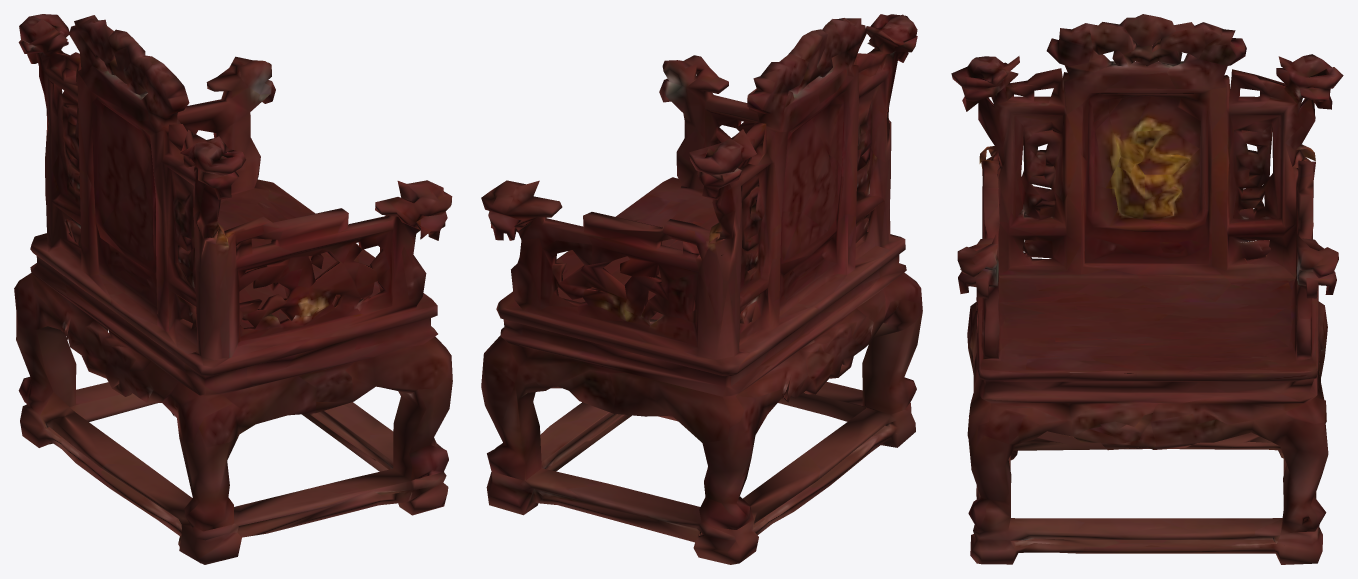
The model's file is baozuo.glb.
3 renders of one model, left to right at view 1: azimuth 30°, elevation 25°; view 2: azimuth 150°, elevation 25°; view 3: azimuth 270°, elevation 25°, orthographic. The views are drawn at different scales.
Parts seen in each view (by area): view 1: tripo_node_5bac24d4-92e3-4681-852b-6e6cb6faeeb1; view 2: tripo_node_5bac24d4-92e3-4681-852b-6e6cb6faeeb1; view 3: tripo_node_5bac24d4-92e3-4681-852b-6e6cb6faeeb1.
Part boxes in pixels (x1,y1,x2,y2): tripo_node_5bac24d4-92e3-4681-852b-6e6cb6faeeb1: [14, 14, 452, 564]; tripo_node_5bac24d4-92e3-4681-852b-6e6cb6faeeb1: [481, 14, 922, 564]; tripo_node_5bac24d4-92e3-4681-852b-6e6cb6faeeb1: [951, 14, 1343, 564].
Size of the model in its own units: 0.5963 by 1 by 0.8055.
1 material, 1 textured.
